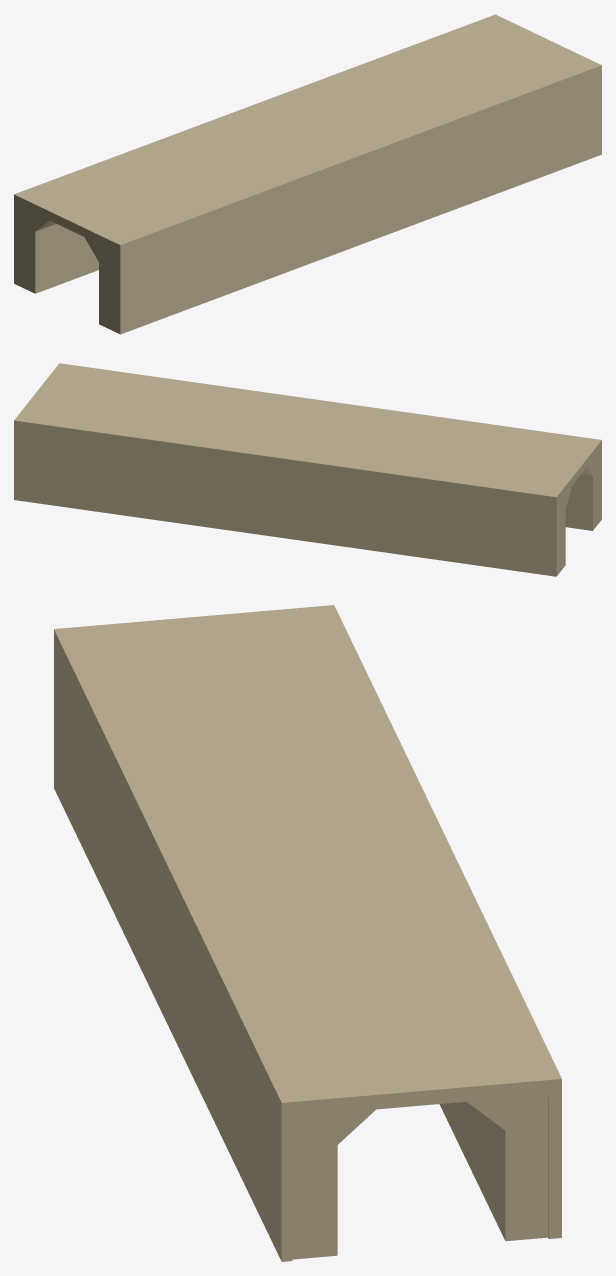
3 renders of one model, top to bottom at view 1: azimuth 30°, elevation 25°; view 2: azimuth 150°, elevation 25°; view 3: azimuth 270°, elevation 25°, orthographic. The views are drawn at different scales.
Parts seen in each view (by area): view 1: Cube; view 2: Cube; view 3: Cube.
Boxes of the visible parts, x1,y1,x2,y2 form: Cube: [14, 14, 601, 334]; Cube: [14, 363, 601, 576]; Cube: [54, 605, 561, 1261].
Size of the model in its own units: 9.54 by 1.42 by 4.12.
